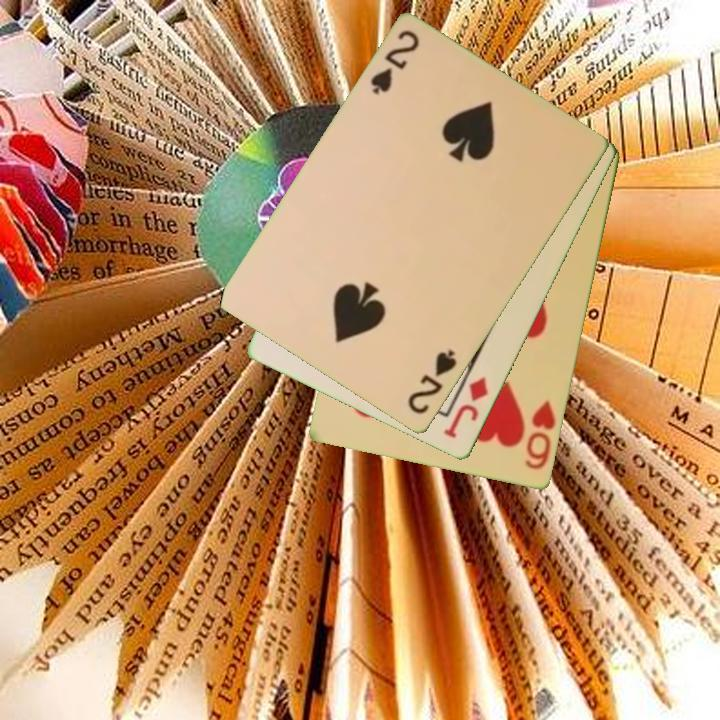2s: (404, 346, 460, 418), (367, 26, 423, 98)
6h: (522, 397, 559, 473)
Jd: (440, 373, 492, 442)
